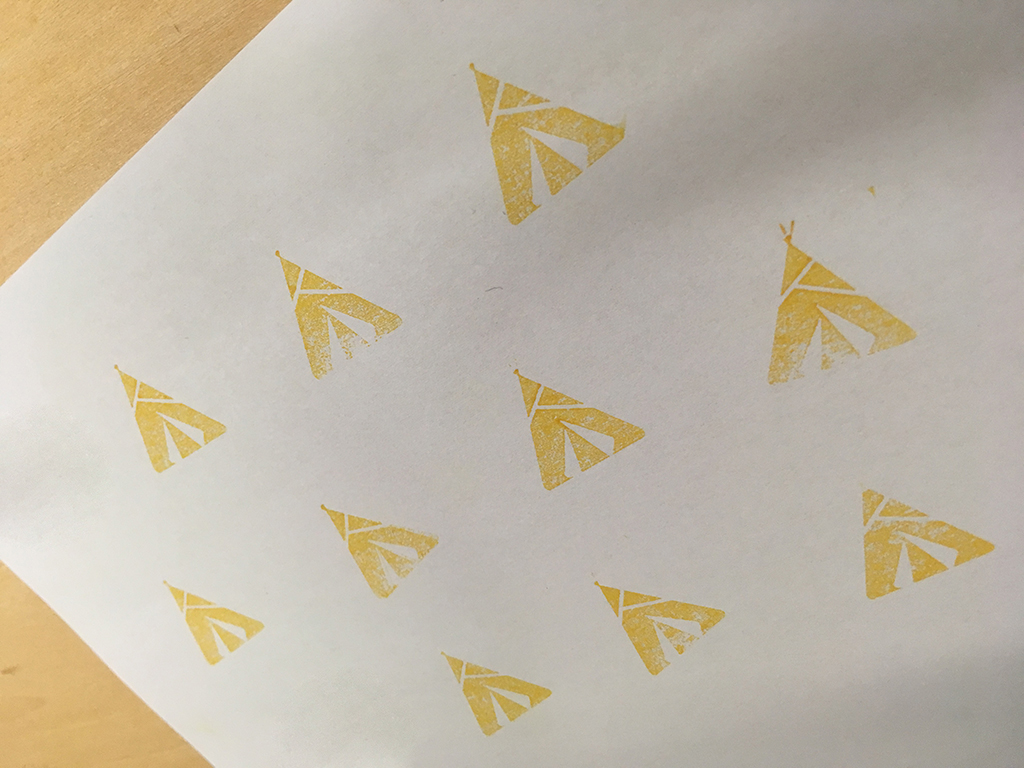tent: (753, 218, 926, 399), (458, 54, 633, 232), (264, 245, 416, 386), (506, 359, 654, 498), (850, 472, 1000, 609), (580, 565, 729, 684), (111, 362, 239, 489), (316, 501, 444, 605), (433, 644, 560, 746), (152, 577, 270, 674)
